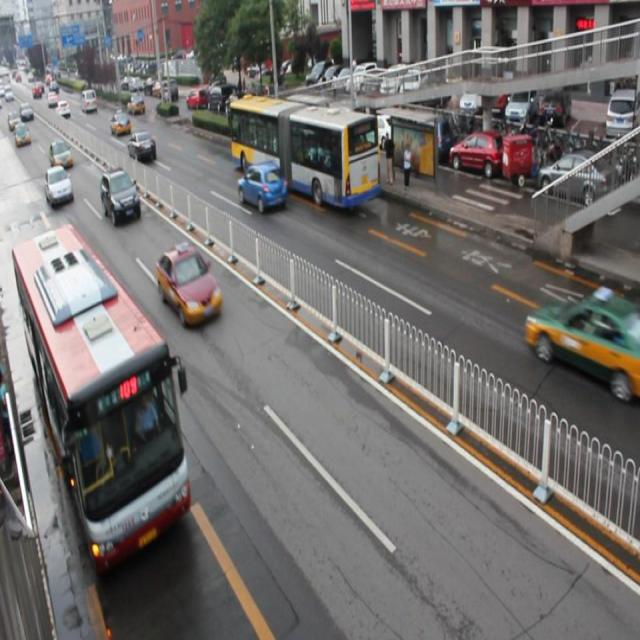car: (522, 291, 640, 399), (157, 242, 221, 326), (237, 163, 286, 212), (100, 168, 142, 225), (44, 167, 73, 205), (127, 131, 156, 162)
van: (13, 230, 190, 569), (229, 96, 381, 210)
